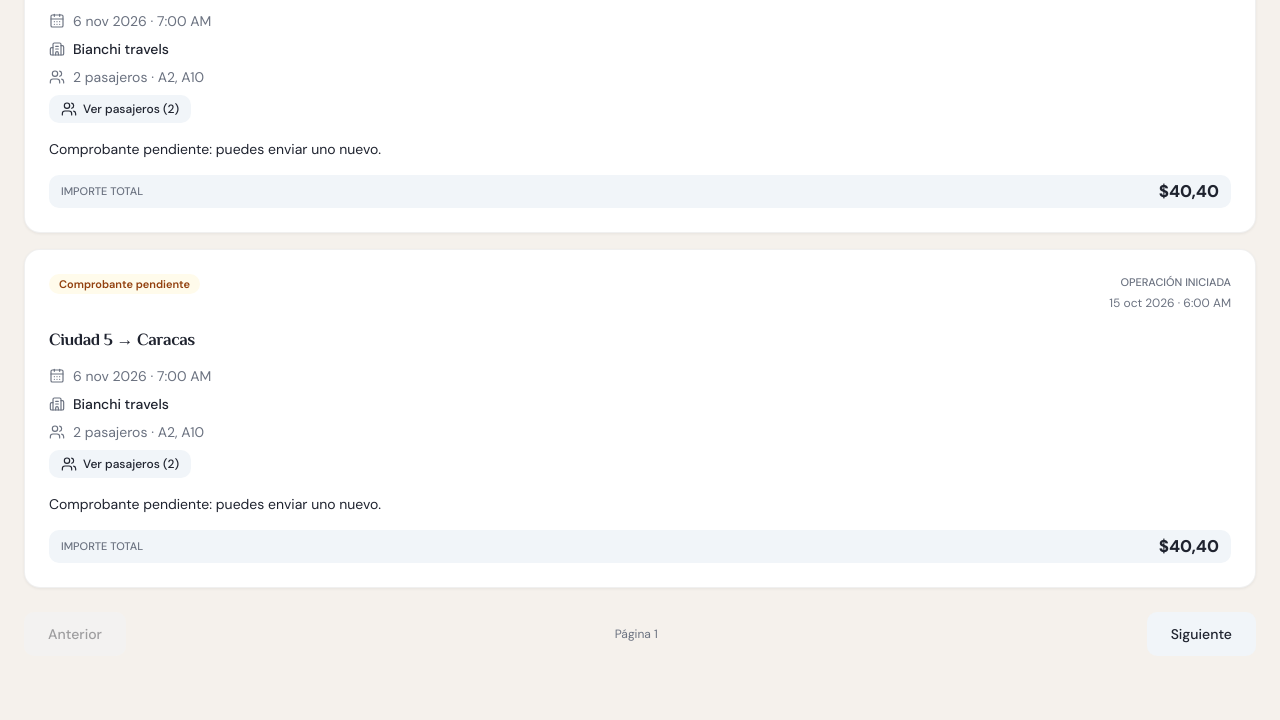
Test case: MisComprasPage (RT-02) › pagina 5 tarjetas por pantalla sobre el historial completo, sin volver a pedir a la API
Expected: the heading "Ciudad 5 → Caracas" is shown, [49, 328, 195, 354]
Expected: the text "Página 1" is shown, [615, 626, 658, 642]
Click the button "Siguiente" at (1201, 634), box [1147, 612, 1256, 656]
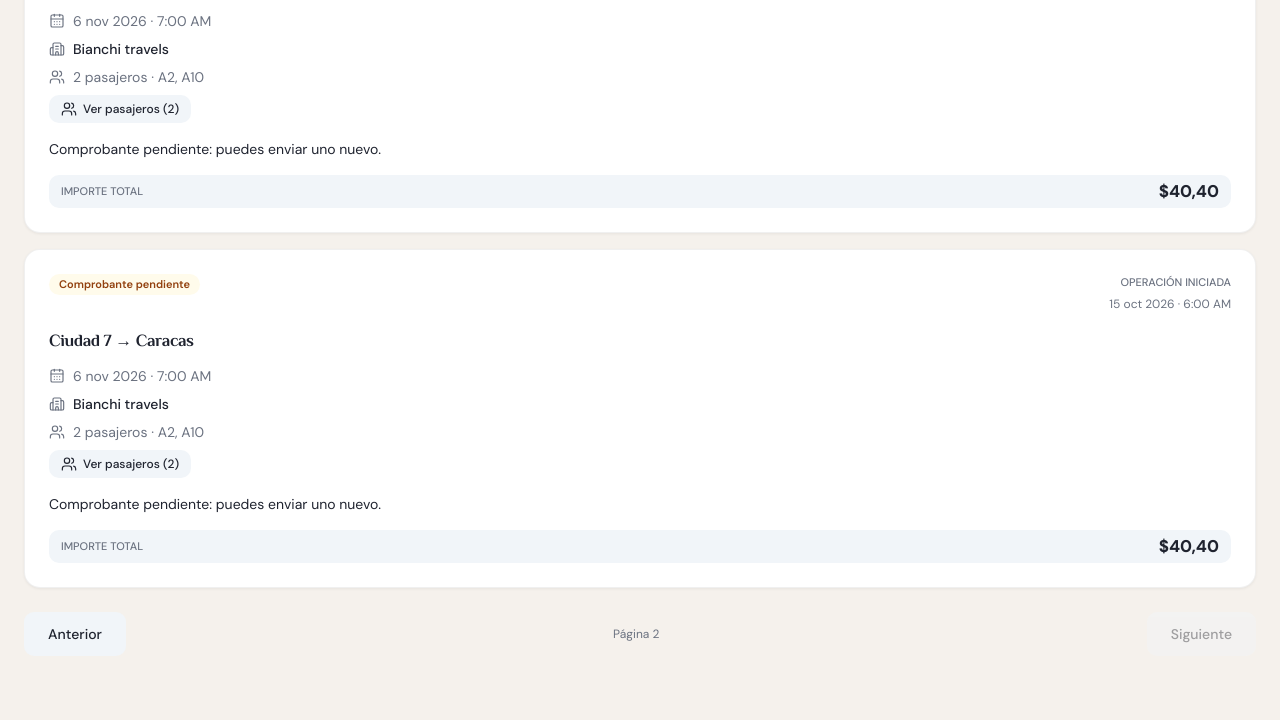
Expected: the text "Página 2" is shown, [613, 626, 659, 642]
Expected: the button "Siguiente" is disabled, [1147, 612, 1256, 656]
Expected: the button "Anterior" is enabled
Click the button "Anterior" at (75, 634), box [24, 612, 126, 656]
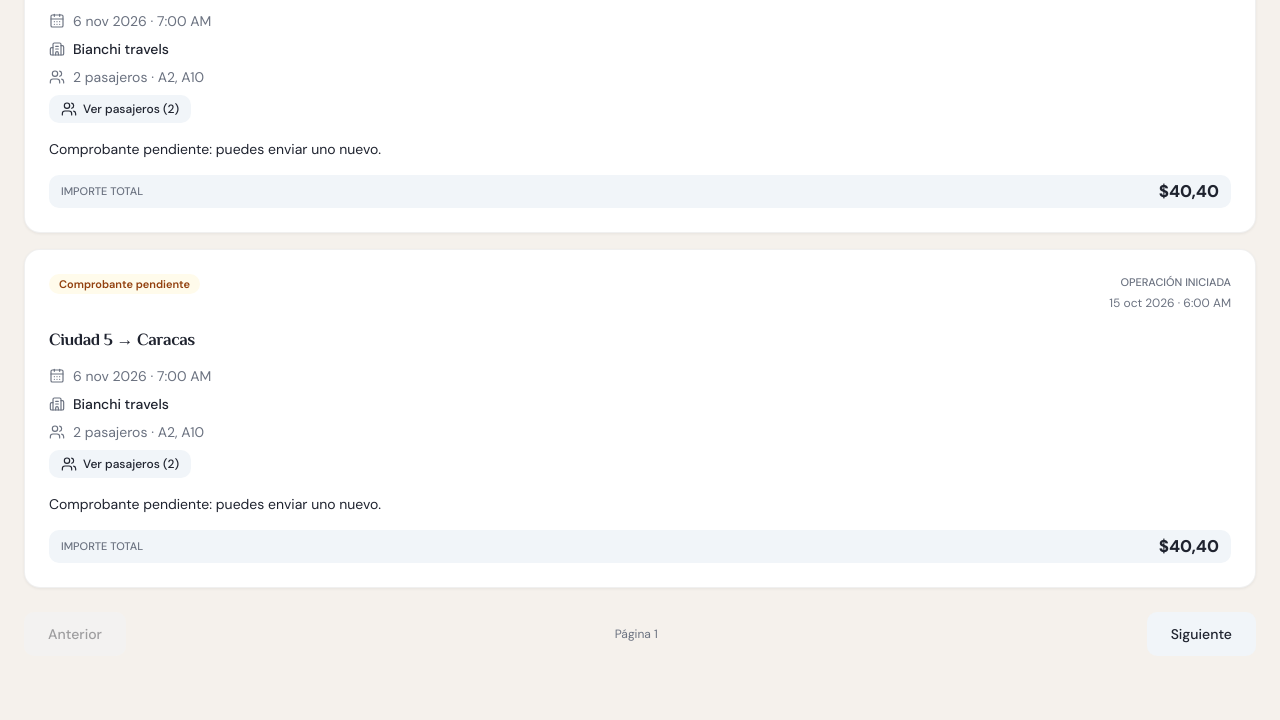
Expected: the text "Página 1" is shown, [615, 626, 658, 642]
Expected: the button "Siguiente" is enabled, [1147, 612, 1256, 656]
